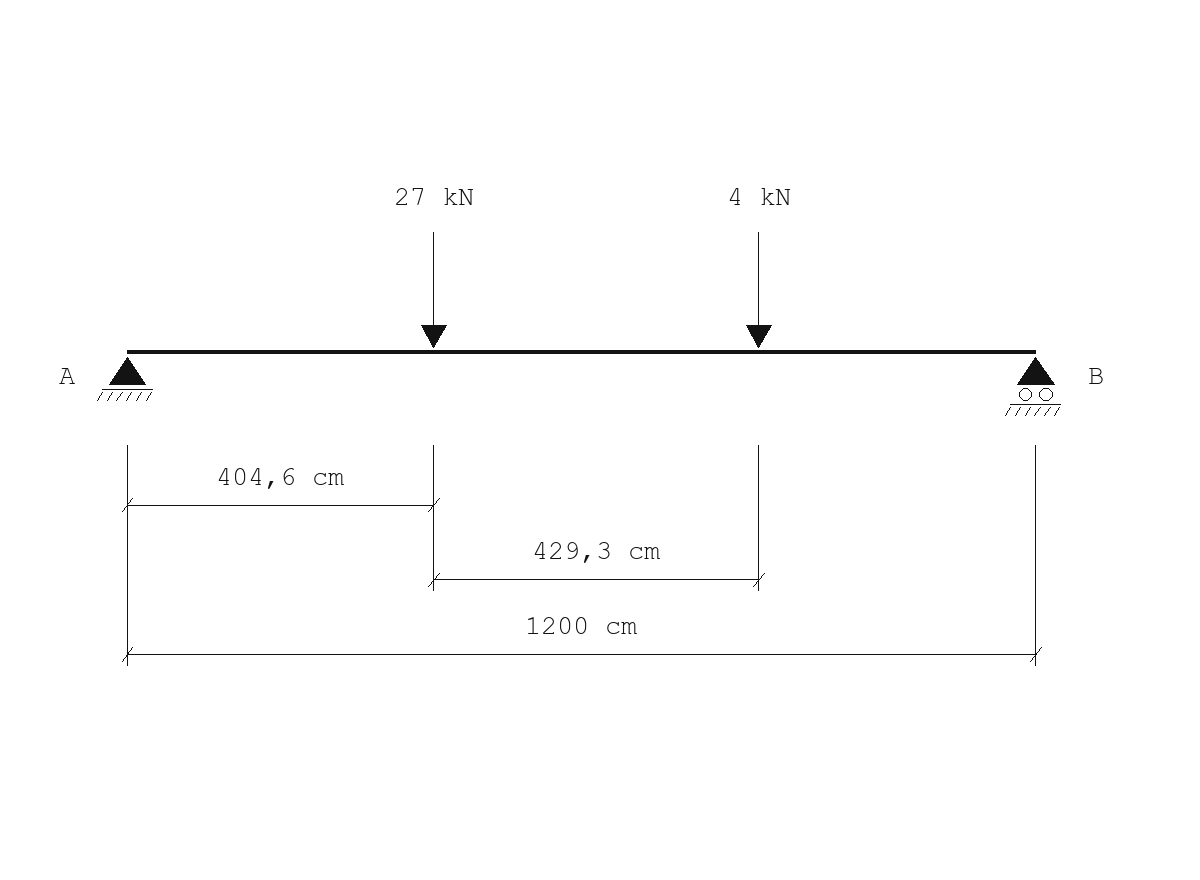pin_support: (97, 357, 153, 401)
point_load: (421, 232, 447, 348), (746, 232, 772, 348)
roller_support: (1005, 357, 1061, 416)
